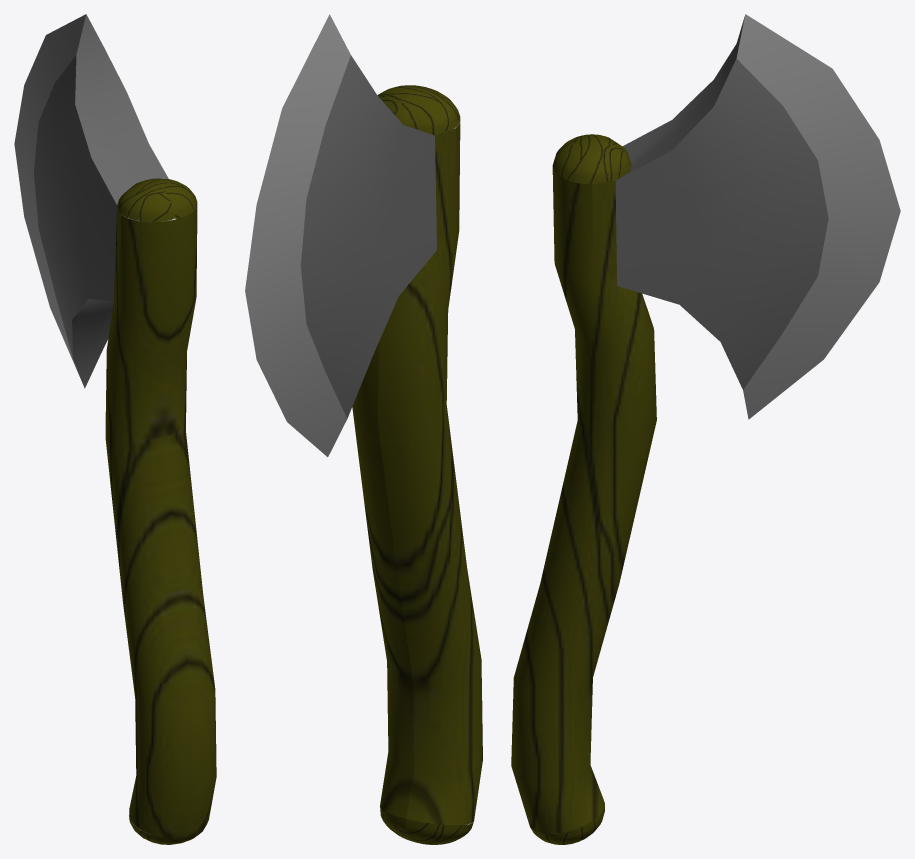
Rendered from New axe.fbx.
3 views of the same model, side by side, from view 1: azimuth 30°, elevation 25°; view 2: azimuth 150°, elevation 25°; view 3: azimuth 270°, elevation 25° (orthographic). The views are drawn at different scales.
Visible parts, largest first — view 1: pCube4; view 2: pCube4; view 3: pCube4.
Boxes of the visible parts, left/top/right/bottom form: pCube4: left=14, top=14, right=216, bottom=844; pCube4: left=245, top=14, right=482, bottom=844; pCube4: left=511, top=14, right=900, bottom=844.
Size of the model in its own units: 1.7 by 17.18 by 7.35.
